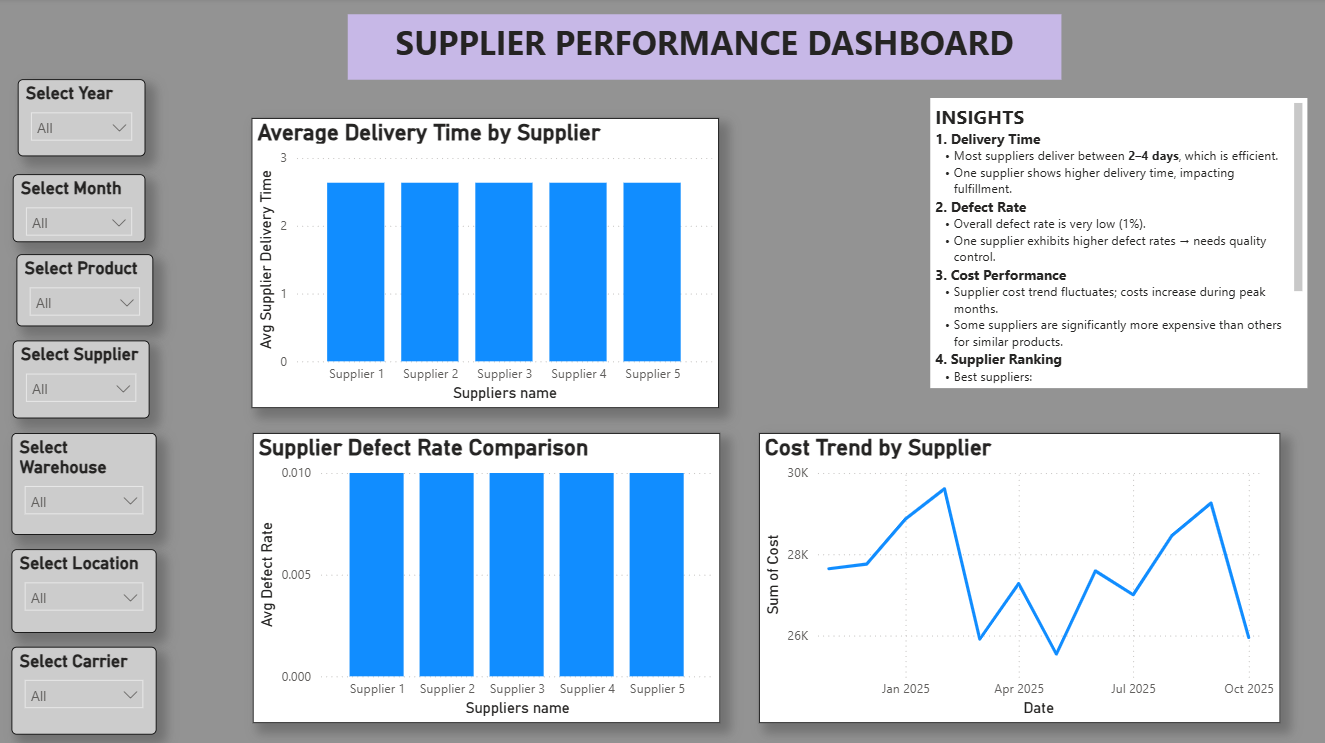

Layout of this report page (visuals, bound fields, positions):
{"tool":"powerbi","page":{"name":"Page 4","canvas":[1280,720],"ordinal":3},"visuals":[{"type":"clusteredColumnChart","title":"Average Delivery Time by Supplier","fields":{"Category":["suppliers_table.Suppliers name "],"Y":["DateTable.Avg Supplier Delivery Time"]},"box":[243.3,116.2,451.2,280],"z":0},{"type":"clusteredColumnChart","title":"Supplier Defect Rate Comparison","fields":{"Category":["suppliers_table.Suppliers name "],"Y":["DateTable.Avg Defect Rate"]},"box":[244.6,419.4,451.2,280],"z":1},{"type":"lineChart","title":"Cost Trend by Supplier","fields":{"Category":["DateTable.Date"],"Y":["Sum(supplier_performance_table.Cost)"]},"box":[733.5,419.8,503.1,279.9],"z":2},{"type":"slicer","title":"Select Year","fields":{"Values":["DateTable.Year"]},"box":[17.8,78.2,123.5,74.1],"z":3},{"type":"slicer","title":"Select Month","fields":{"Values":["DateTable.Month"]},"box":[13.7,170.2,127.6,65.9],"z":4},{"type":"slicer","title":"Select Product","fields":{"Values":["products_table.ProductID"]},"box":[16.5,247,131.7,70],"z":5},{"type":"slicer","title":"Select Supplier","fields":{"Values":["suppliers_table.Suppliers name "]},"box":[13.7,330.7,131.7,75.5],"z":6},{"type":"slicer","title":"Select Warehouse","fields":{"Values":["inventory_table.WarehouseID"]},"box":[12.3,419.9,140,98.8],"z":7},{"type":"slicer","title":"Select Location","fields":{"Values":["products_table.Location"]},"box":[12.3,532.4,140,81],"z":8},{"type":"slicer","title":"Select Carrier","fields":{"Values":["shipping_table.Carrier"]},"box":[12.3,625.7,140,85.1],"z":9},{"type":"textbox","box":[336.2,15.1,688.9,63.1],"z":10},{"type":"textbox","box":[898.8,96.5,364.3,279.9],"z":11}]}

Visuals, with their boxes in screenshot pixels (x1, y1, x2, y2), scaled from the page's 1280x720 canvas onto the 1325x743 screenshot:
"Average Delivery Time by Supplier" clusteredColumnChart: <region>252, 120, 719, 409</region>
"Supplier Defect Rate Comparison" clusteredColumnChart: <region>253, 433, 720, 722</region>
"Cost Trend by Supplier" lineChart: <region>759, 433, 1280, 722</region>
"Select Year" slicer: <region>18, 81, 146, 157</region>
"Select Month" slicer: <region>14, 176, 146, 244</region>
"Select Product" slicer: <region>17, 255, 153, 327</region>
"Select Supplier" slicer: <region>14, 341, 151, 419</region>
"Select Warehouse" slicer: <region>13, 433, 158, 535</region>
"Select Location" slicer: <region>13, 549, 158, 633</region>
"Select Carrier" slicer: <region>13, 646, 158, 734</region>
textbox: <region>348, 16, 1061, 81</region>
textbox: <region>930, 100, 1308, 388</region>
